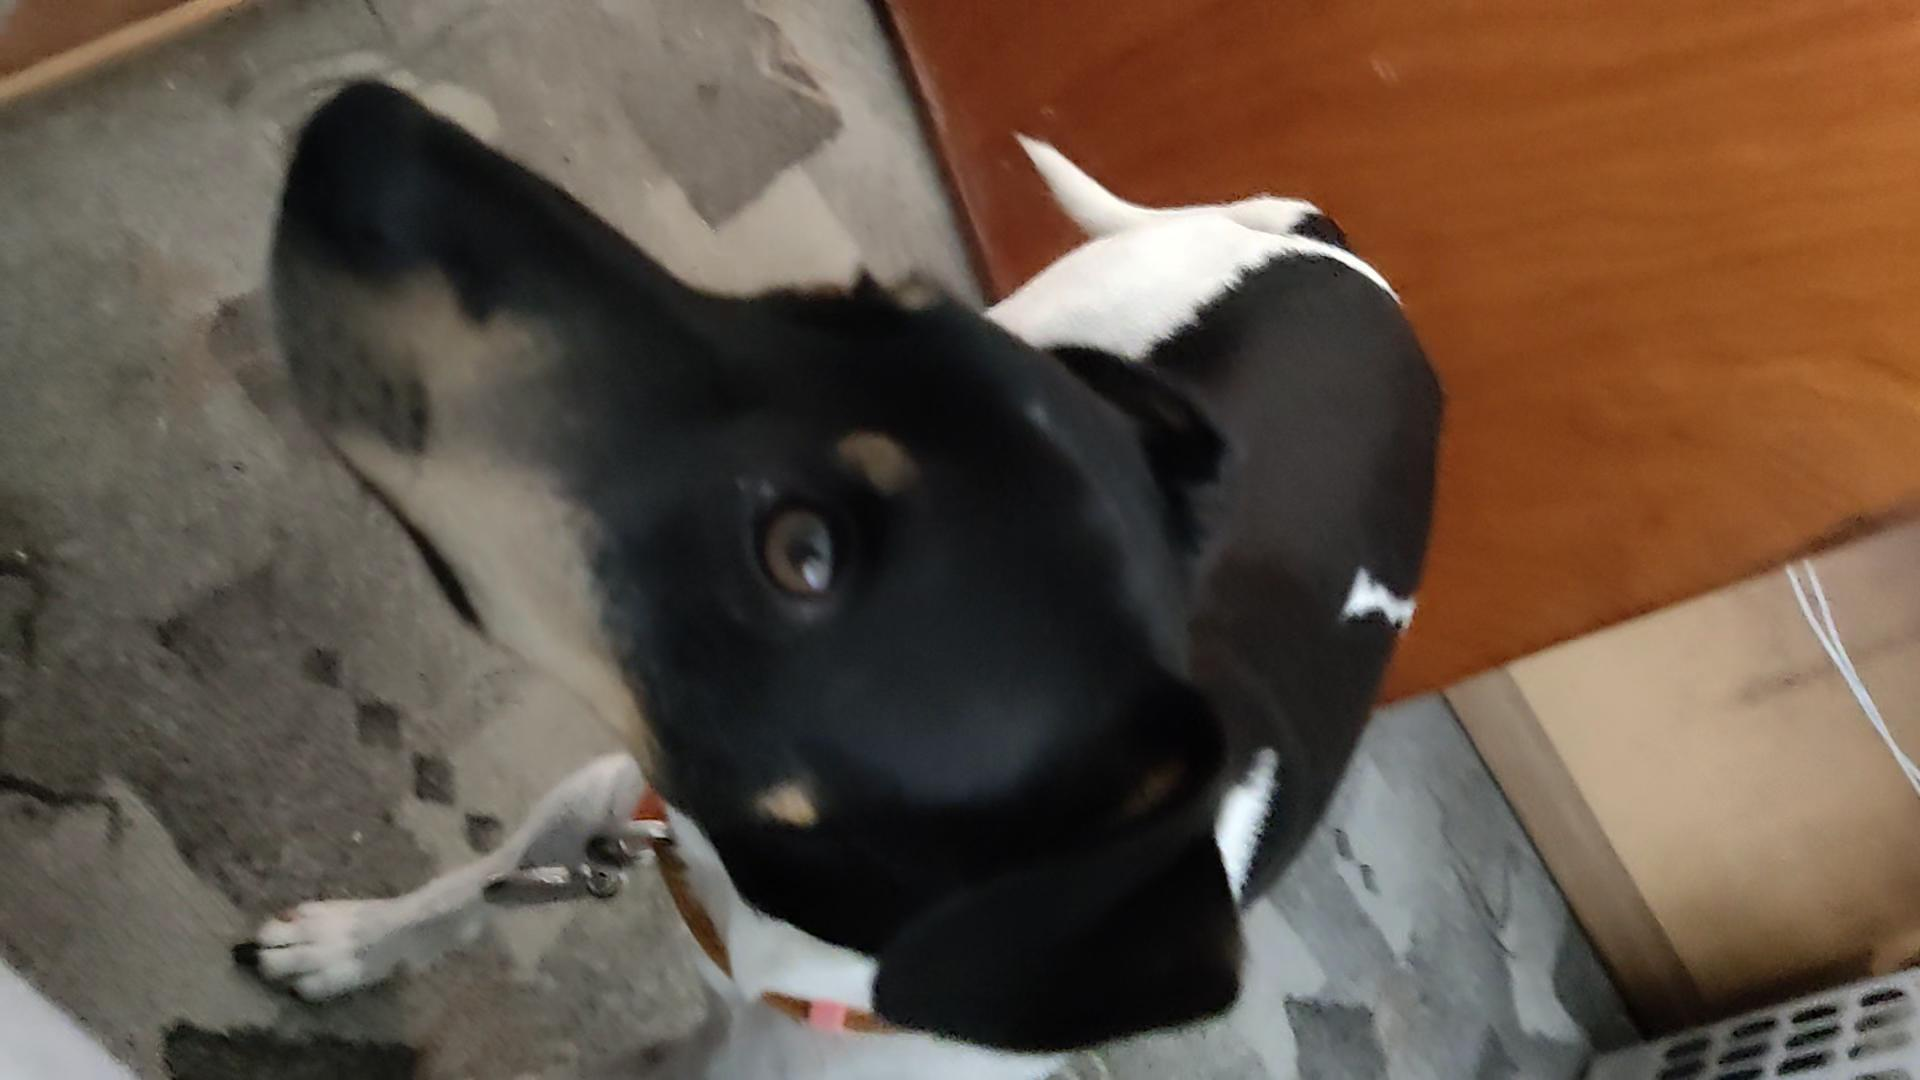Dog: (175, 62, 1457, 1079)
